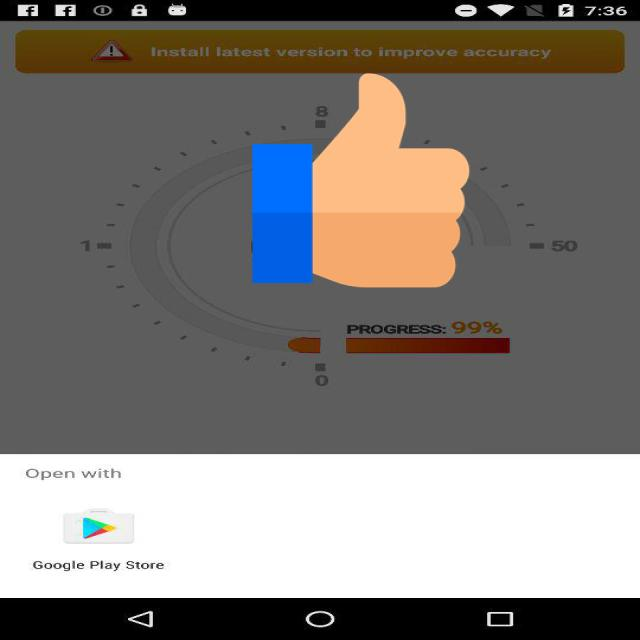privacy zuckering: (252, 68, 470, 293)
